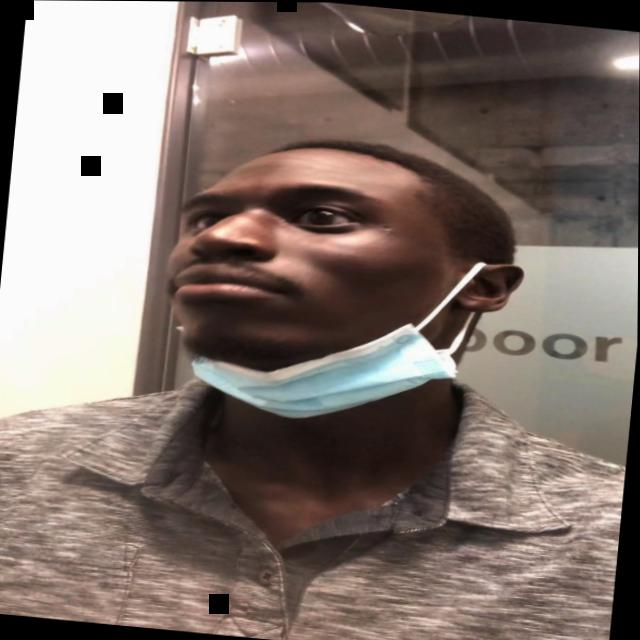NO-Mask: (160, 139, 505, 386)
